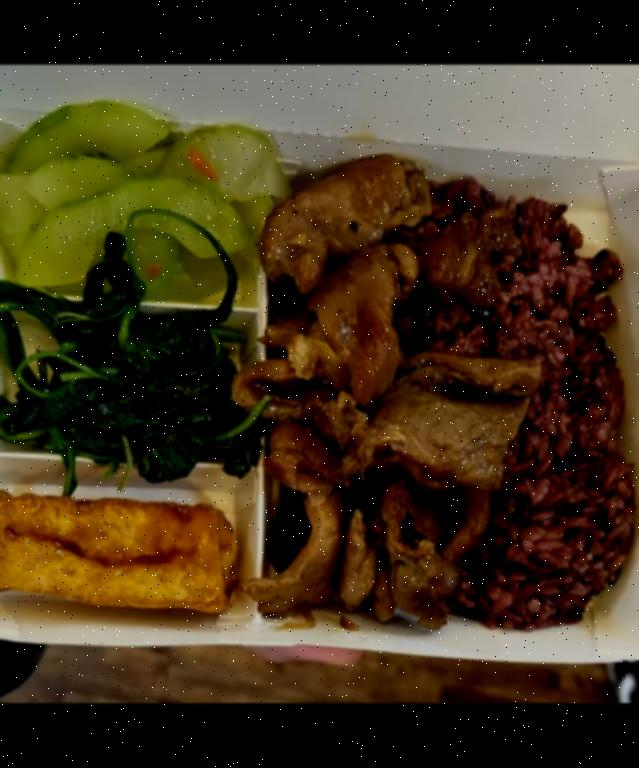box: (0, 104, 639, 686)
purple rice: (412, 176, 635, 640)
sauteed pork: (252, 154, 541, 646)
side dish: (0, 99, 285, 292), (0, 272, 261, 477), (0, 487, 240, 622)
